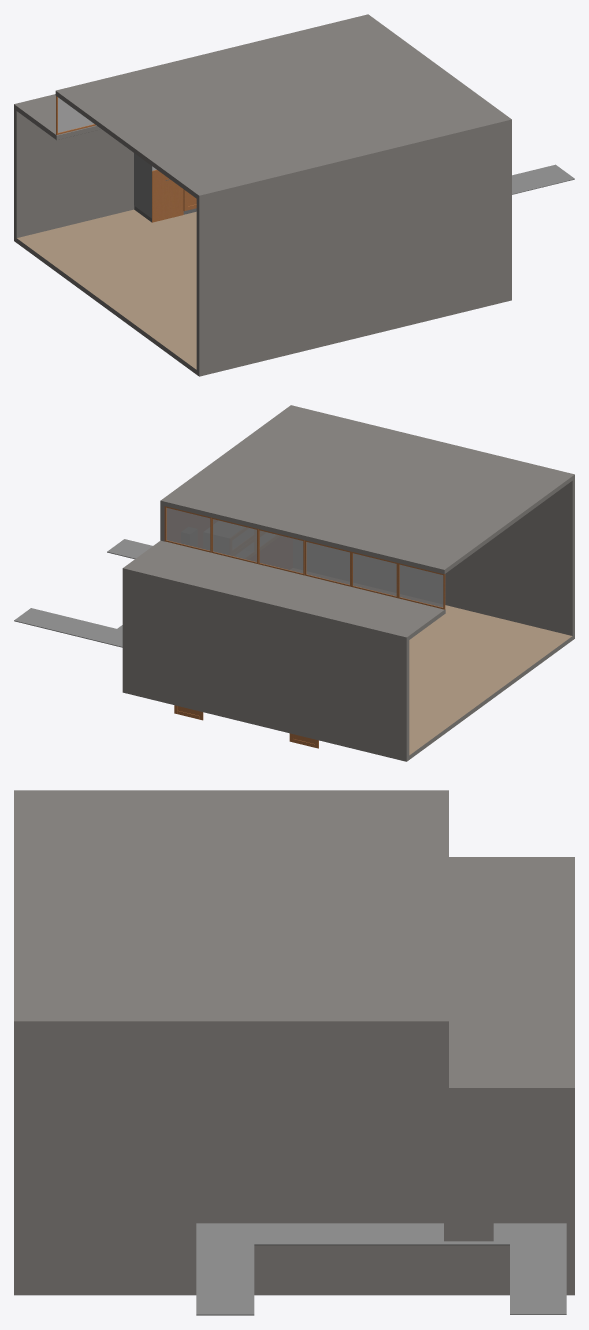
The model's file is Kitchen.fbx.
3 views of the same model, one above another, from view 1: azimuth 30°, elevation 25°; view 2: azimuth 150°, elevation 25°; view 3: azimuth 270°, elevation 25° (orthographic). The views are drawn at different scales.
Visible parts, largest first — view 1: ROOM, BDOOR2, TABLE, BOX2, GLASS; view 2: ROOM, GLASS, TABLE; view 3: ROOM, TABLE.
Part boxes in pixels (box(x1,y1,x2,y2)): ROOM: box(14, 14, 511, 376); BDOOR2: box(152, 169, 183, 222); TABLE: box(512, 164, 574, 194); BOX2: box(134, 168, 151, 218); GLASS: box(58, 97, 93, 132); ROOM: box(122, 405, 574, 761); GLASS: box(166, 508, 443, 607); TABLE: box(14, 539, 152, 647); ROOM: box(14, 790, 574, 1295); TABLE: box(196, 1223, 566, 1315).
Size of the model in its own units: 367 by 169 by 270.
43 materials, 10 textured.
